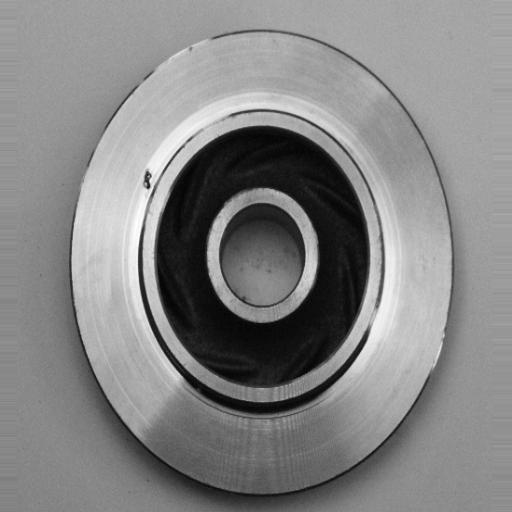crack: (139, 164, 158, 201)
unpolished_casting: (70, 27, 455, 501)
